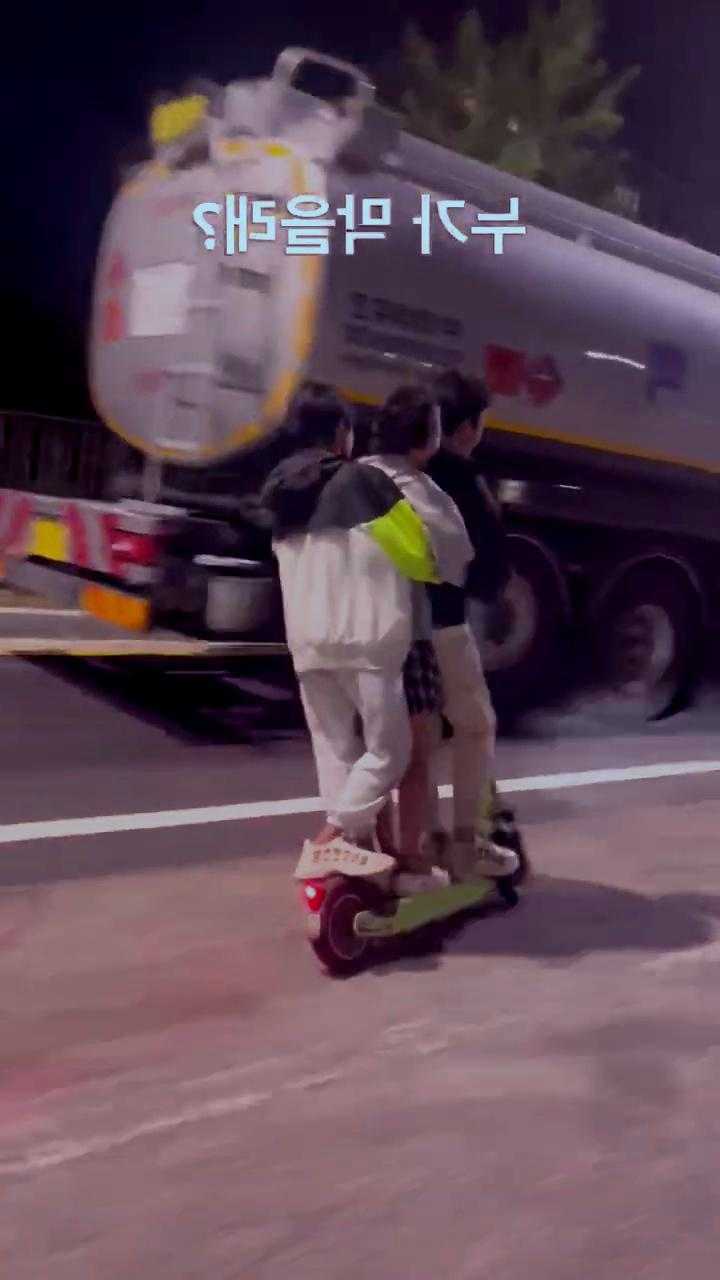multiple: (250, 358, 544, 977)
